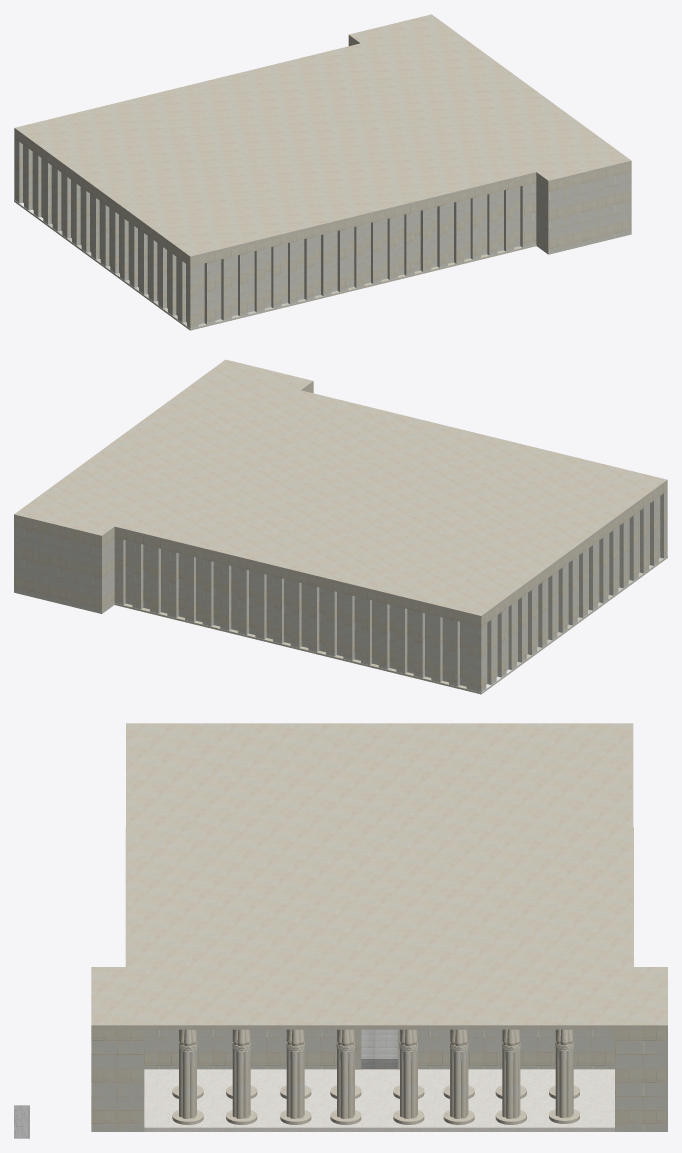
Rendered from Khaemwaset.glb.
The picture shows the model from 3 angles, top to bottom: view 1: azimuth 30°, elevation 25°; view 2: azimuth 150°, elevation 25°; view 3: azimuth 270°, elevation 25°; orthographic projection. The views are drawn at different scales.
Visible parts, largest first — view 1: Mesh20 Model; view 2: Mesh20 Model; view 3: Mesh20 Model, Mesh2 Component_17_2 Model, Mesh15 Component_17_12 Model, Mesh1 Component_17_1 Model, Mesh14 Component_17_11 Model, Mesh17 Component_17_14 Model, Mesh3 Component_17_3 Model, Mesh12 Component_17_9 Model, Mesh16 Component_17_13 Model.
Boxes of the visible parts, x1=… form: Mesh20 Model: x1=14, y1=14, x2=631, y2=330; Mesh20 Model: x1=14, y1=359, x2=667, y2=694; Mesh20 Model: x1=91, y1=723, x2=667, y2=1131; Mesh2 Component_17_2 Model: x1=226, y1=1029, x2=257, y2=1124; Mesh15 Component_17_12 Model: x1=280, y1=1029, x2=311, y2=1124; Mesh1 Component_17_1 Model: x1=495, y1=1029, x2=526, y2=1124; Mesh14 Component_17_11 Model: x1=443, y1=1029, x2=474, y2=1124; Mesh17 Component_17_14 Model: x1=549, y1=1029, x2=579, y2=1123; Mesh3 Component_17_3 Model: x1=172, y1=1029, x2=203, y2=1124; Mesh12 Component_17_9 Model: x1=330, y1=1029, x2=361, y2=1124; Mesh16 Component_17_13 Model: x1=393, y1=1029, x2=424, y2=1124.
Size of the model in its own units: 31.71 by 5.1 by 28.35.
8 materials, 7 textured.
